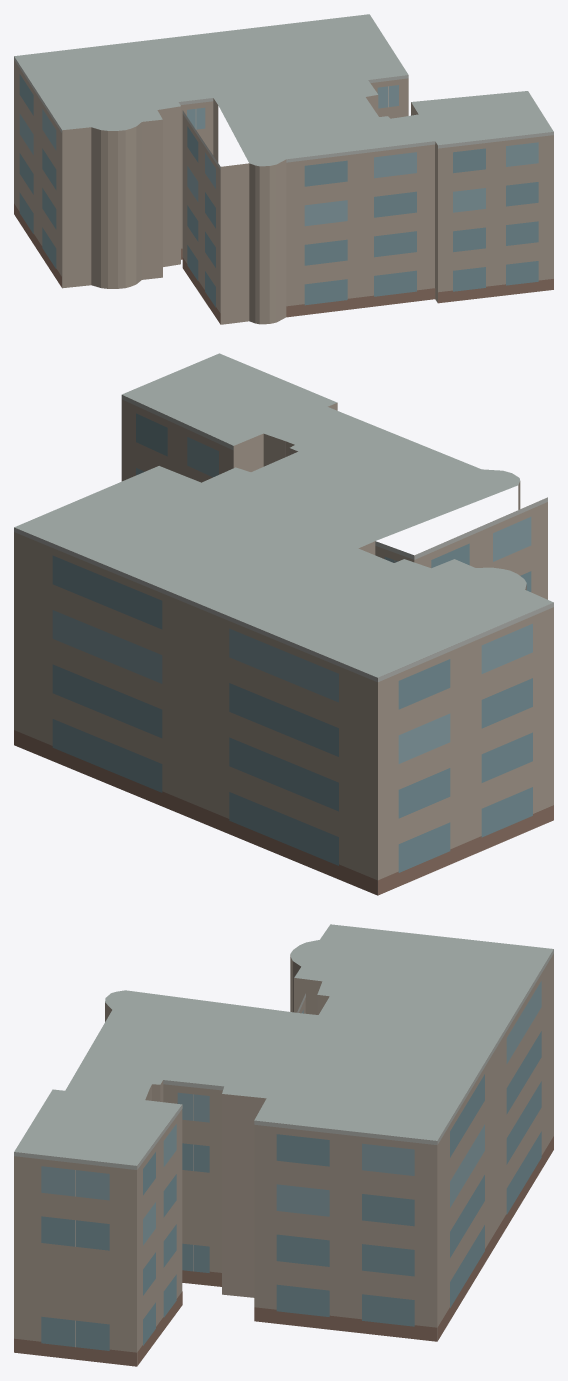
Rendered from survey-upis-32751867.glb.
3 renders of one model, top to bottom at view 1: azimuth 30°, elevation 25°; view 2: azimuth 150°, elevation 25°; view 3: azimuth 270°, elevation 25°, orthographic. The views are drawn at different scales.
Visible parts, largest first — view 1: survey-upis-32751867.tmp; view 2: survey-upis-32751867.tmp; view 3: survey-upis-32751867.tmp.
Boxes of the visible parts, bbox=[...] form: survey-upis-32751867.tmp: bbox=[14, 14, 553, 324]; survey-upis-32751867.tmp: bbox=[14, 353, 553, 895]; survey-upis-32751867.tmp: bbox=[14, 924, 553, 1366].
Bounding box in the file's own units: 29.82 × 11.55 × 28.16.
